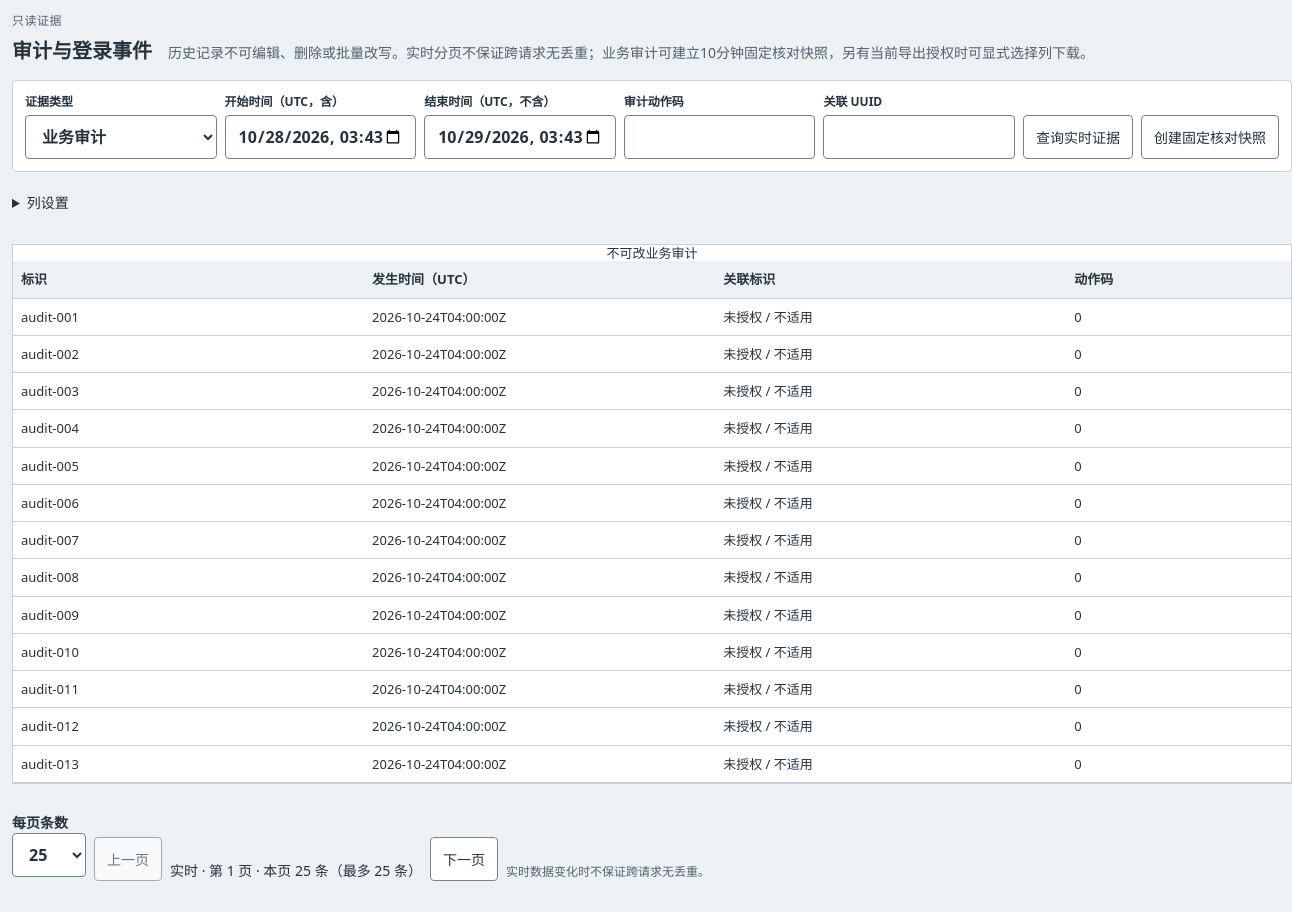
reads live offsets after an insertion and makes no fixed-snapshot claim
This screenshot has width=1292, height=912.
Click the button with test id "next-page". click: (464, 859)
box: top-left (430, 837), bottom-right (498, 881)
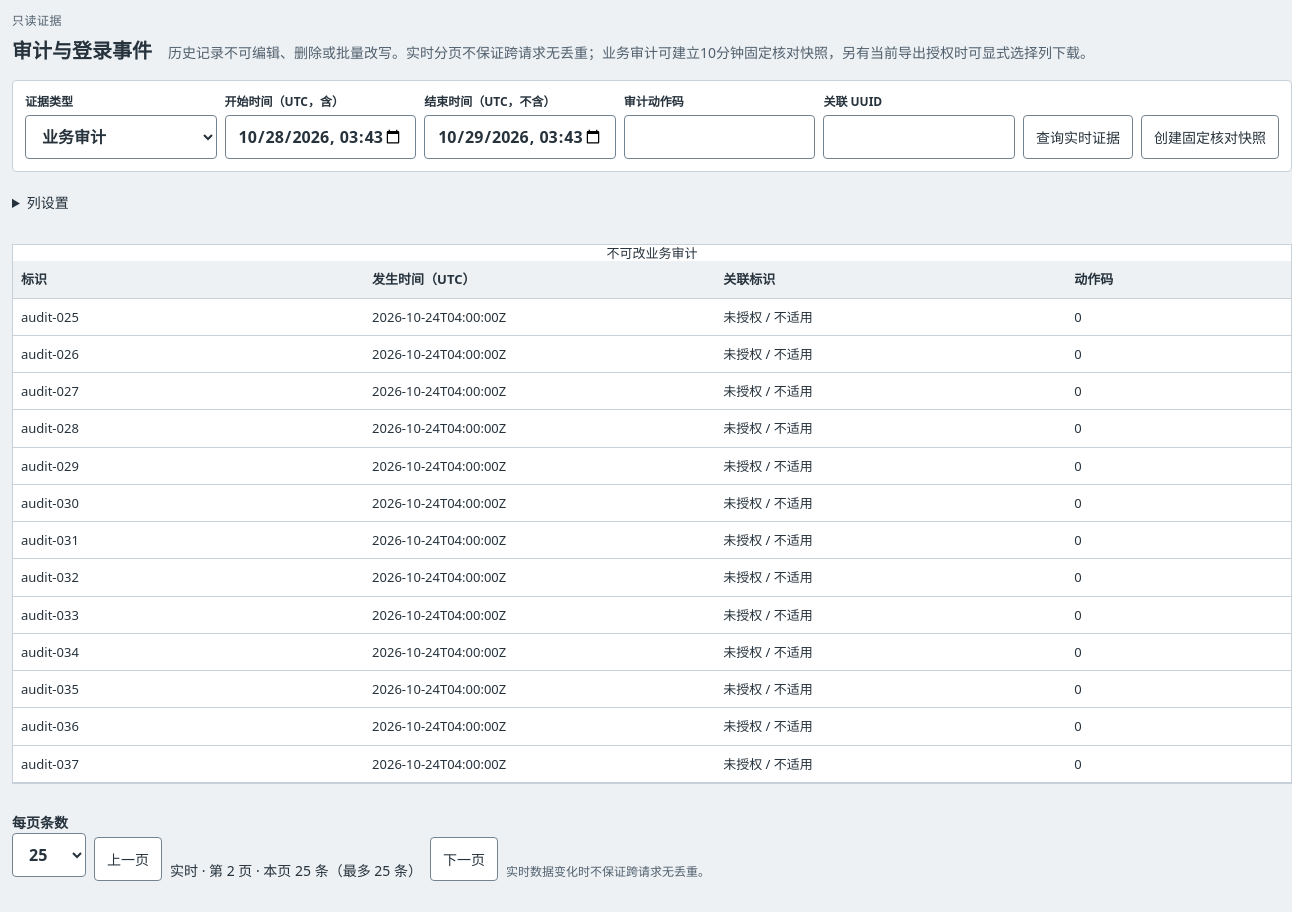
Expected: the text "不保证跨请求无丢重" is shown, top-left (168, 43), bottom-right (1094, 62)
Result: the row "audit-025 2026-10-24T04:00:00Z 未授权 / 不适用 0" is shown at top-left (13, 298), bottom-right (1291, 335)
